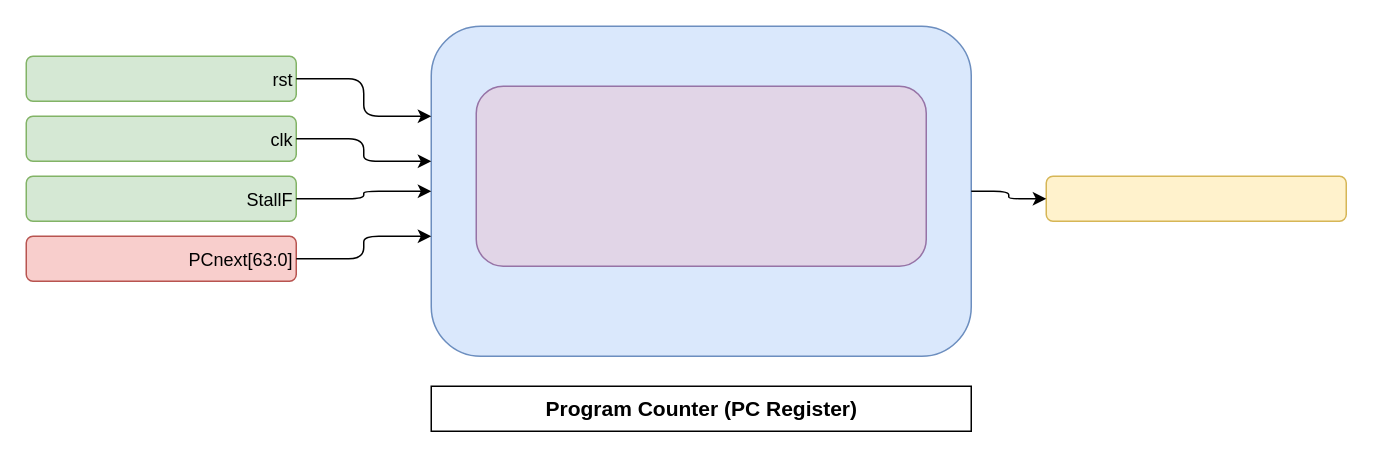
Image size: 1373x458. Some labels were removed from this diagram. The box of each missing label's shape, as (x1, y1, x2, y2) in pixels:
PC Register Logic Reset → PC = 0 Stall → Hold PC Else → PC = PCnext: (475, 85, 926, 266)
PCF[63:0]: (1045, 175, 1346, 221)
